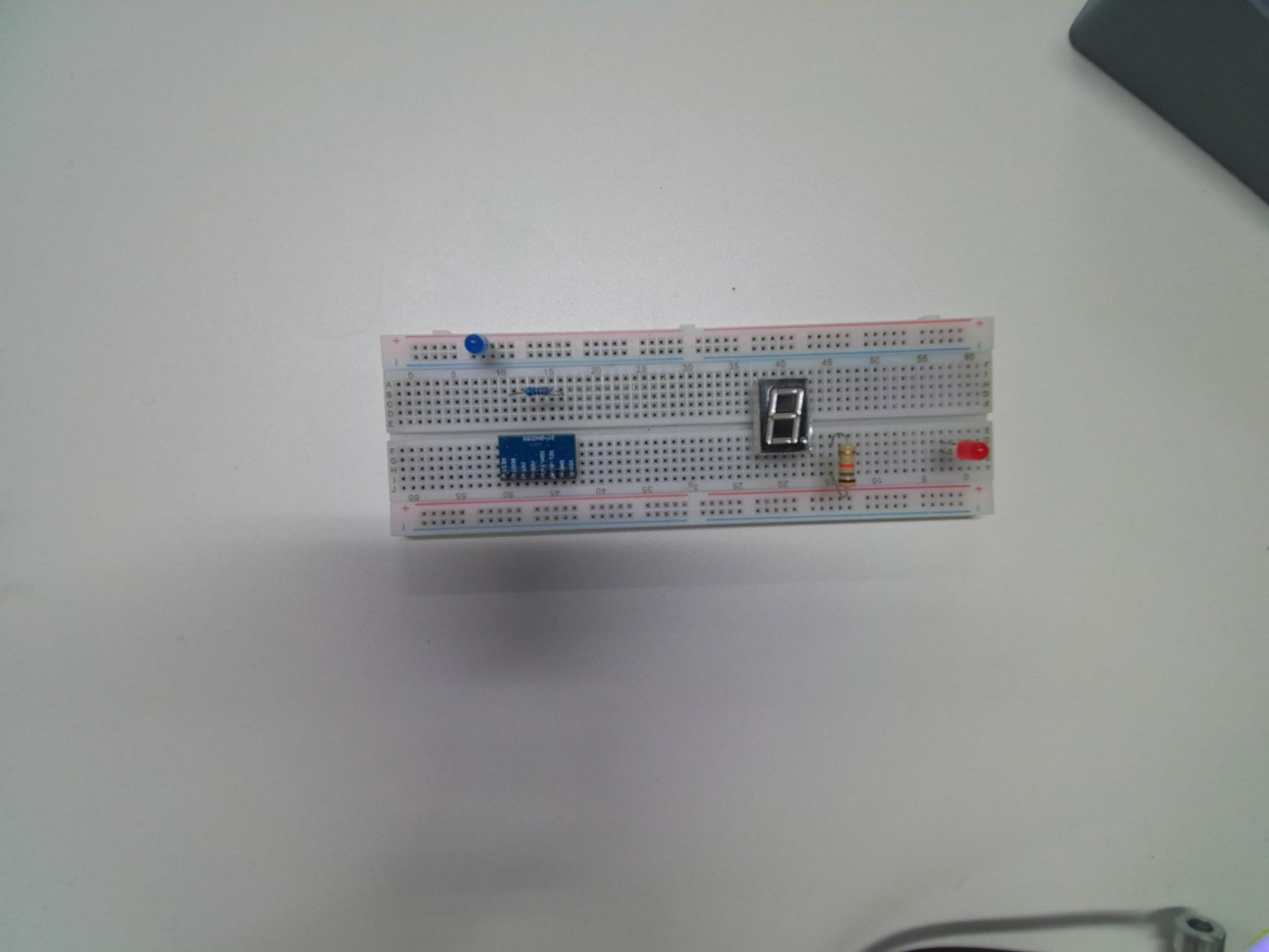base: (380, 317, 997, 539)
blue-board: (496, 432, 578, 487)
blue-led: (465, 333, 489, 357)
digit-board: (753, 374, 812, 457)
red-led: (954, 440, 990, 461)
resistor-big: (836, 439, 858, 491)
resistor-small: (521, 384, 553, 398)
